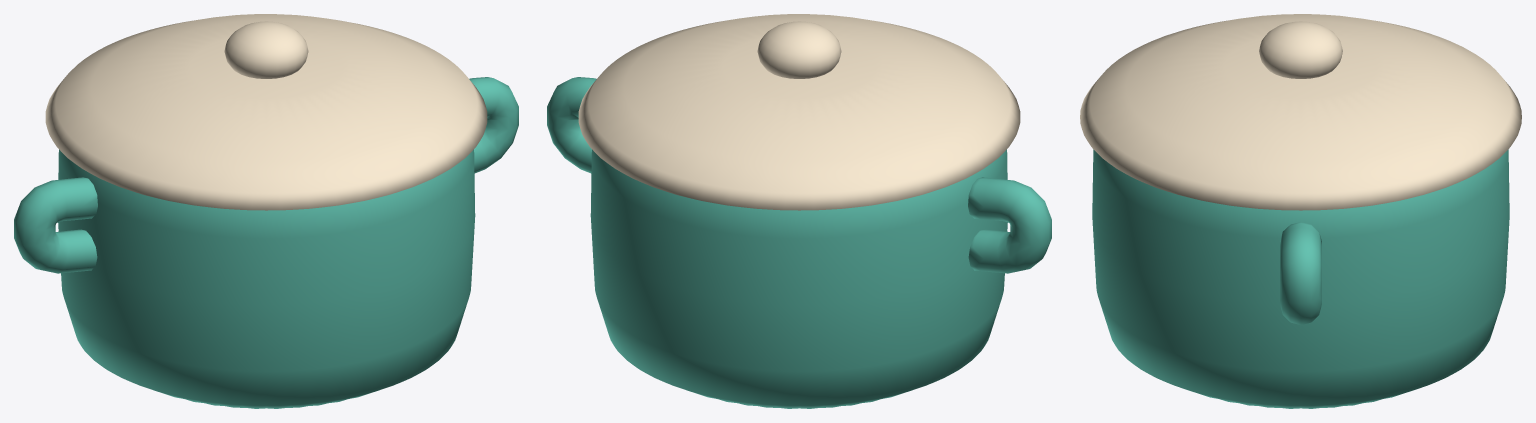
Rendered from pot_a.glb.
3 views of the same model, side by side, from view 1: azimuth 30°, elevation 25°; view 2: azimuth 150°, elevation 25°; view 3: azimuth 270°, elevation 25° (orthographic).
Visible parts, largest first — view 1: body; view 2: body; view 3: body.
Part boxes in pixels (x1,y1,x2,y2): body: (14,14,518,408); body: (547,14,1051,408); body: (1080,14,1521,408).
Size of the model in its own units: 0.3016 by 0.184 by 0.2313.
